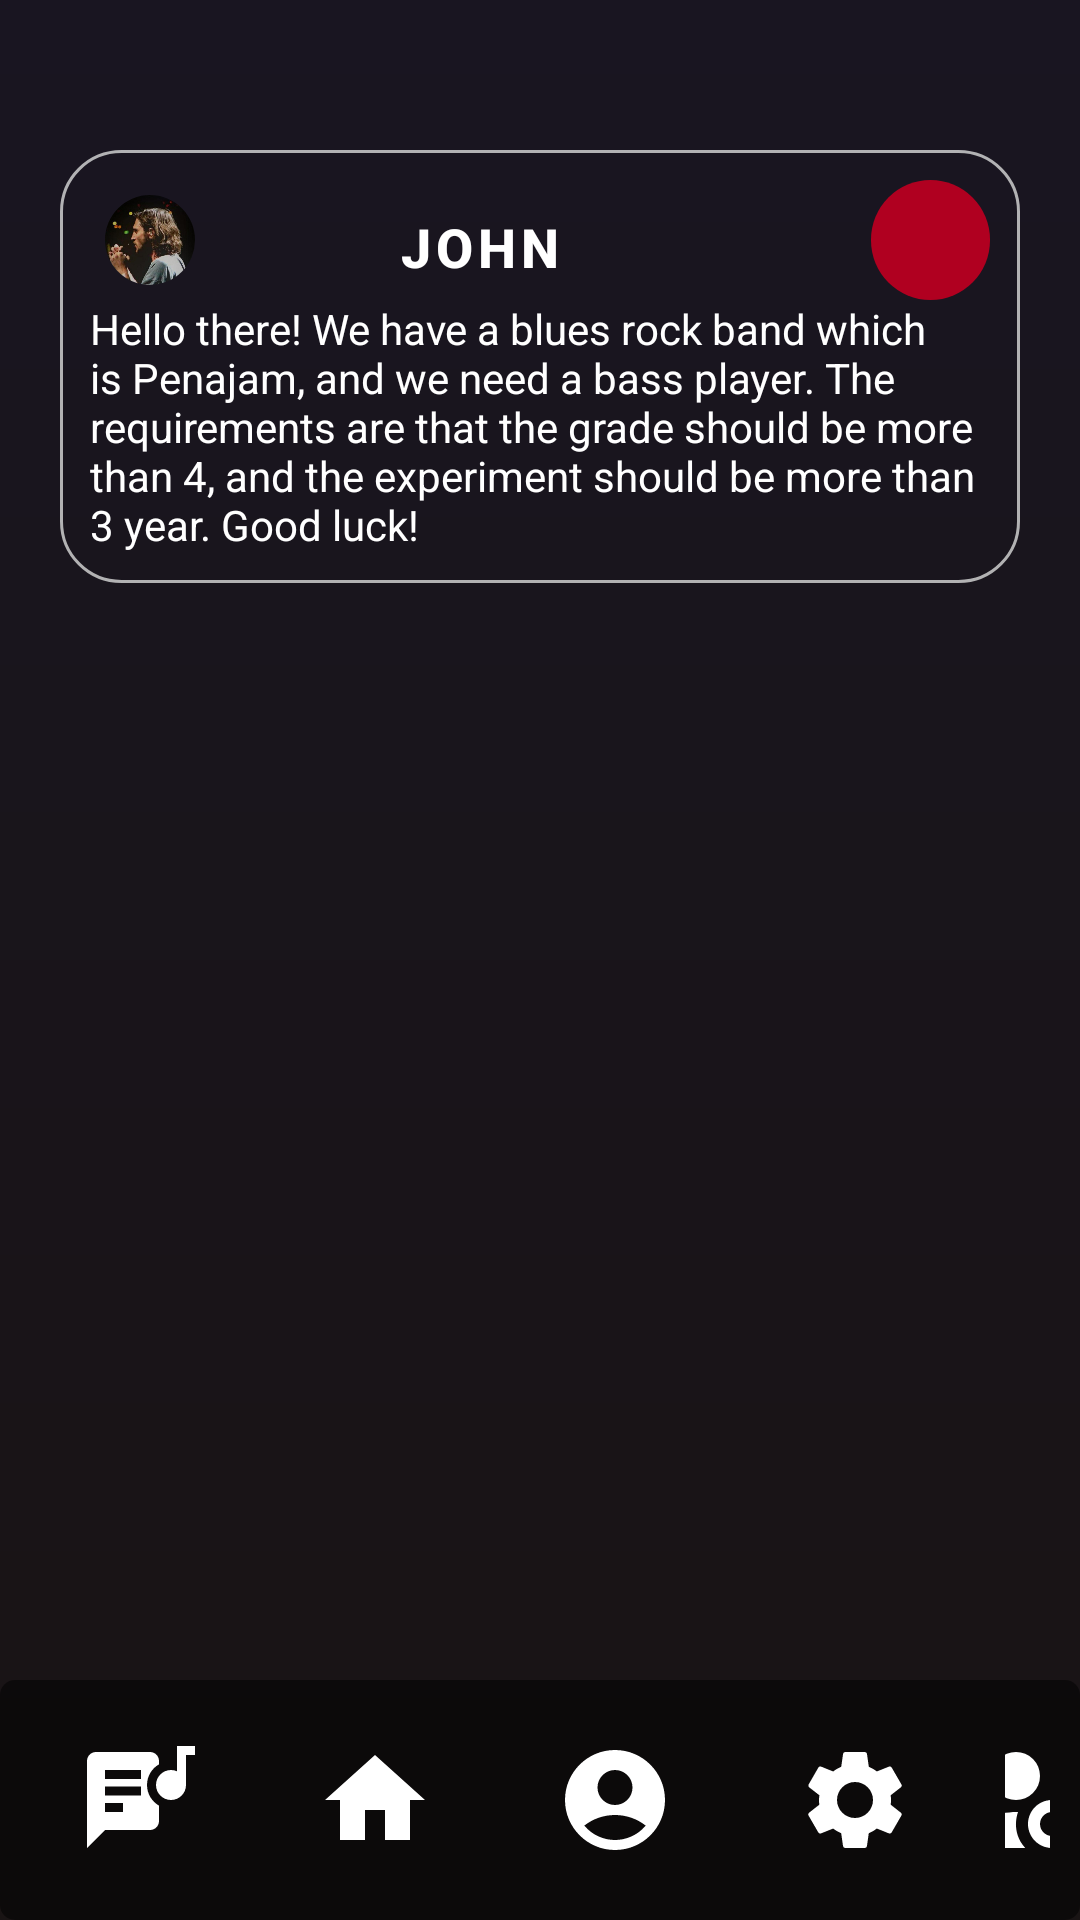

Point at icon controls on the screen. Image size 1080 × 1920, points as point (x, y).
account circle: point (615, 1800)
defaulthuman: point (150, 240)
home: point (375, 1797)
lyrics: point (141, 1797)
settings: point (855, 1800)
